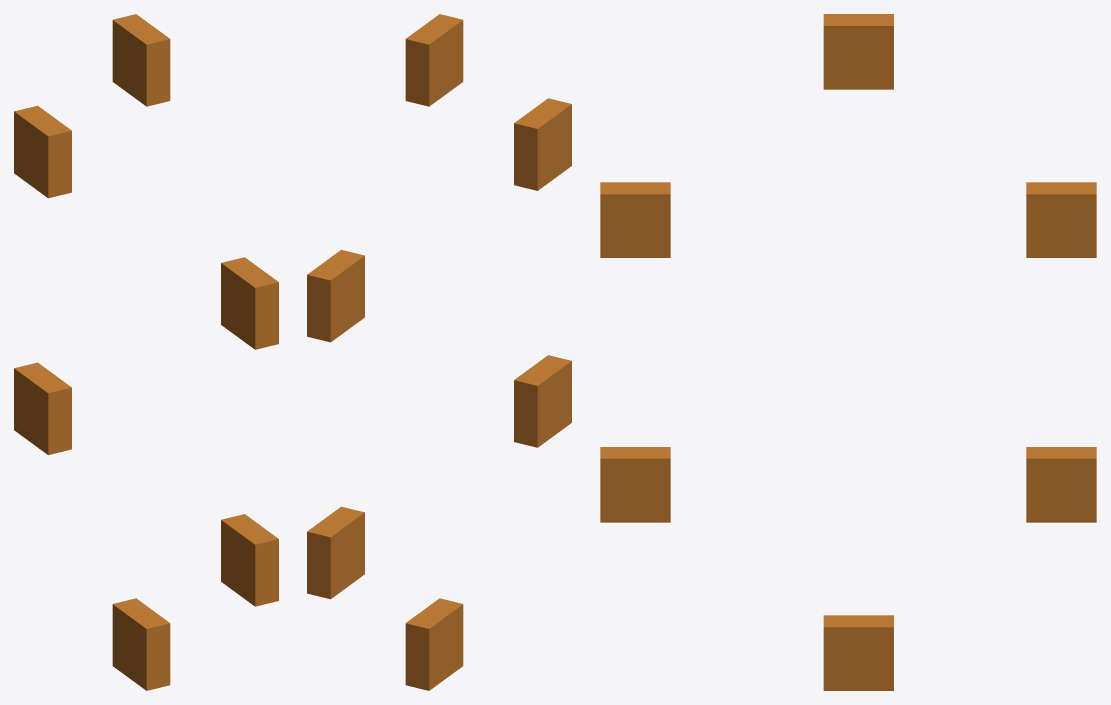
File: halfTomatoSeeds.obj
3 renders of one model, left to right at view 1: azimuth 30°, elevation 25°; view 2: azimuth 150°, elevation 25°; view 3: azimuth 270°, elevation 25°, orthographic. The views are drawn at different scales.
Parts seen in each view (by area): view 1: Cube.002, Cube.005, Cube.004, Cube.003, Cube, Cube.001; view 2: Cube.002, Cube.005, Cube.001, Cube, Cube.003, Cube.004; view 3: Cube, Cube.001, Cube.002, Cube.003, Cube.004, Cube.005.
Part boxes in pixels (left/top/right/bottom): Cube.002: left=112, top=14, right=170, bottom=106; Cube.005: left=112, top=598, right=170, bottom=690; Cube.004: left=14, top=362, right=71, bottom=455; Cube.003: left=221, top=514, right=278, bottom=606; Cube: left=221, top=257, right=278, bottom=349; Cube.001: left=14, top=105, right=71, bottom=198; Cube.002: left=405, top=14, right=463, bottom=106; Cube.005: left=405, top=598, right=463, bottom=690; Cube.001: left=307, top=249, right=364, bottom=342; Cube: left=514, top=98, right=571, bottom=190; Cube.003: left=514, top=355, right=571, bottom=447; Cube.004: left=307, top=506, right=364, bottom=599; Cube: left=600, top=182, right=670, bottom=257; Cube.001: left=1026, top=182, right=1096, bottom=257; Cube.002: left=823, top=14, right=893, bottom=89; Cube.003: left=600, top=447, right=670, bottom=522; Cube.004: left=1026, top=447, right=1096, bottom=522; Cube.005: left=823, top=615, right=893, bottom=690.
Bounding box in the file's own units: 0.00344 × 0.0896 × 0.0606.
